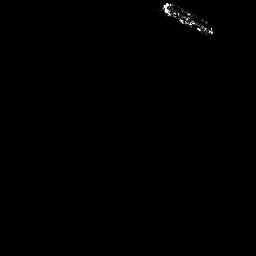ship: (160, 1, 217, 38)
